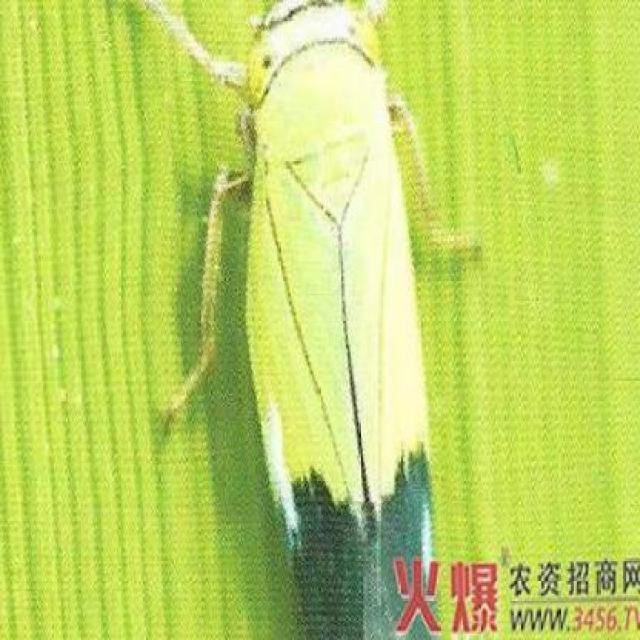green-leafhopper: (229, 0, 440, 640)
